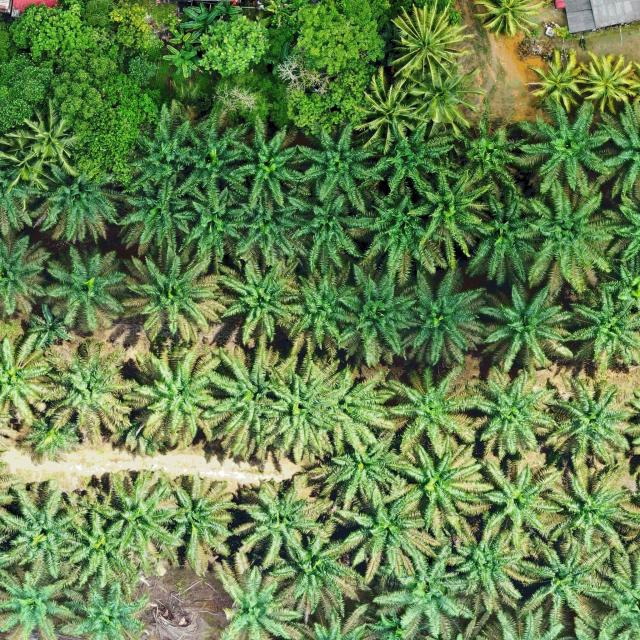Tree: (202, 344, 300, 466), (514, 176, 615, 292), (115, 244, 222, 348), (267, 516, 373, 619), (40, 336, 139, 445), (344, 184, 452, 282), (510, 98, 616, 197), (114, 348, 211, 456), (341, 481, 445, 581), (519, 531, 621, 631), (90, 467, 188, 571), (372, 544, 478, 640), (462, 455, 562, 554), (232, 476, 334, 570), (476, 283, 580, 374), (0, 475, 88, 581), (309, 423, 414, 511), (462, 366, 558, 462), (393, 269, 487, 367), (268, 356, 356, 460), (388, 432, 483, 528), (540, 374, 636, 469), (542, 463, 638, 558), (273, 261, 364, 361), (206, 551, 305, 640), (219, 122, 315, 213), (22, 160, 124, 245), (292, 123, 386, 215), (404, 164, 494, 260), (388, 362, 478, 458), (335, 266, 423, 364), (58, 498, 146, 594), (464, 178, 542, 286), (208, 254, 298, 346), (38, 245, 127, 338), (319, 361, 401, 456), (441, 526, 530, 612), (170, 107, 252, 200), (163, 470, 234, 576), (123, 98, 200, 192), (109, 171, 196, 254), (386, 0, 471, 84), (288, 190, 375, 272), (295, 0, 388, 76), (4, 97, 84, 185), (367, 120, 455, 198), (51, 574, 152, 640), (564, 288, 640, 374), (405, 64, 485, 140), (351, 65, 419, 154), (0, 568, 78, 640), (226, 191, 302, 264), (0, 335, 54, 436), (0, 226, 54, 324), (172, 182, 245, 252), (459, 115, 528, 189), (196, 14, 272, 78), (579, 50, 640, 116), (525, 47, 586, 113), (472, 0, 554, 39), (180, 1, 219, 43), (163, 44, 198, 79), (263, 42, 300, 75), (169, 26, 206, 54), (264, 0, 298, 27), (214, 0, 243, 17)
